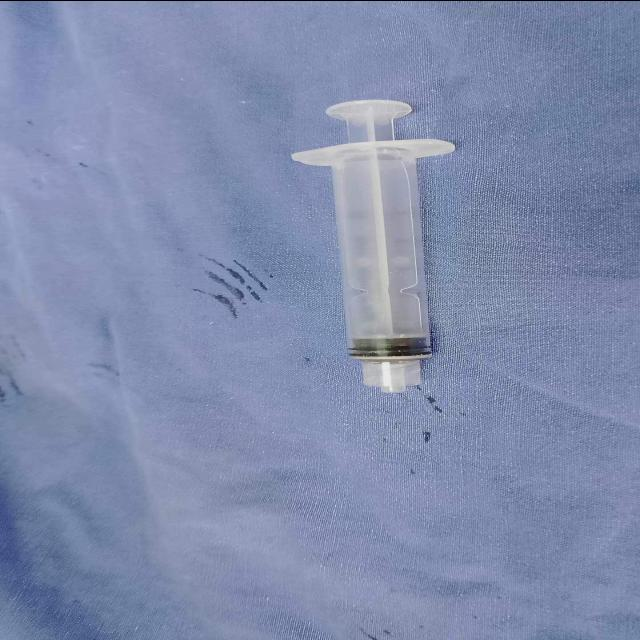General: (3, 3, 636, 638)
Sharps: (290, 99, 456, 392)
